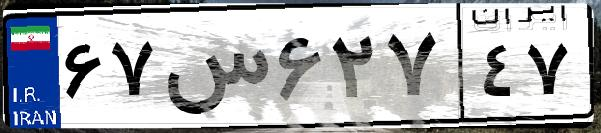2: (330, 28, 385, 110)
4: (475, 38, 525, 113)
6: (270, 28, 330, 110), (57, 26, 110, 100)
7: (385, 28, 445, 110), (525, 38, 570, 115), (110, 28, 158, 98)
س: (158, 20, 270, 120)
